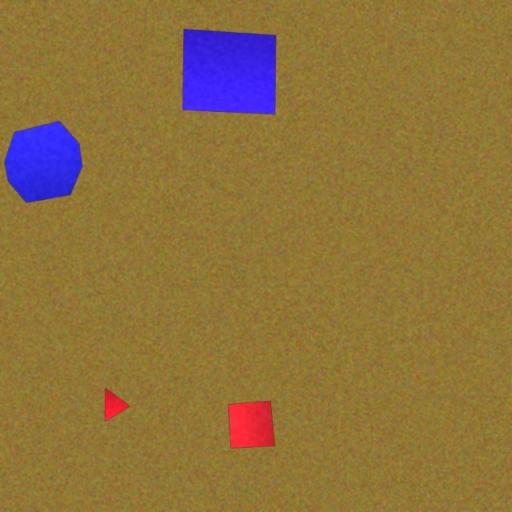BLUE_SQUARE: (182, 28, 276, 115)
RED_SQUARE: (227, 400, 275, 449)
